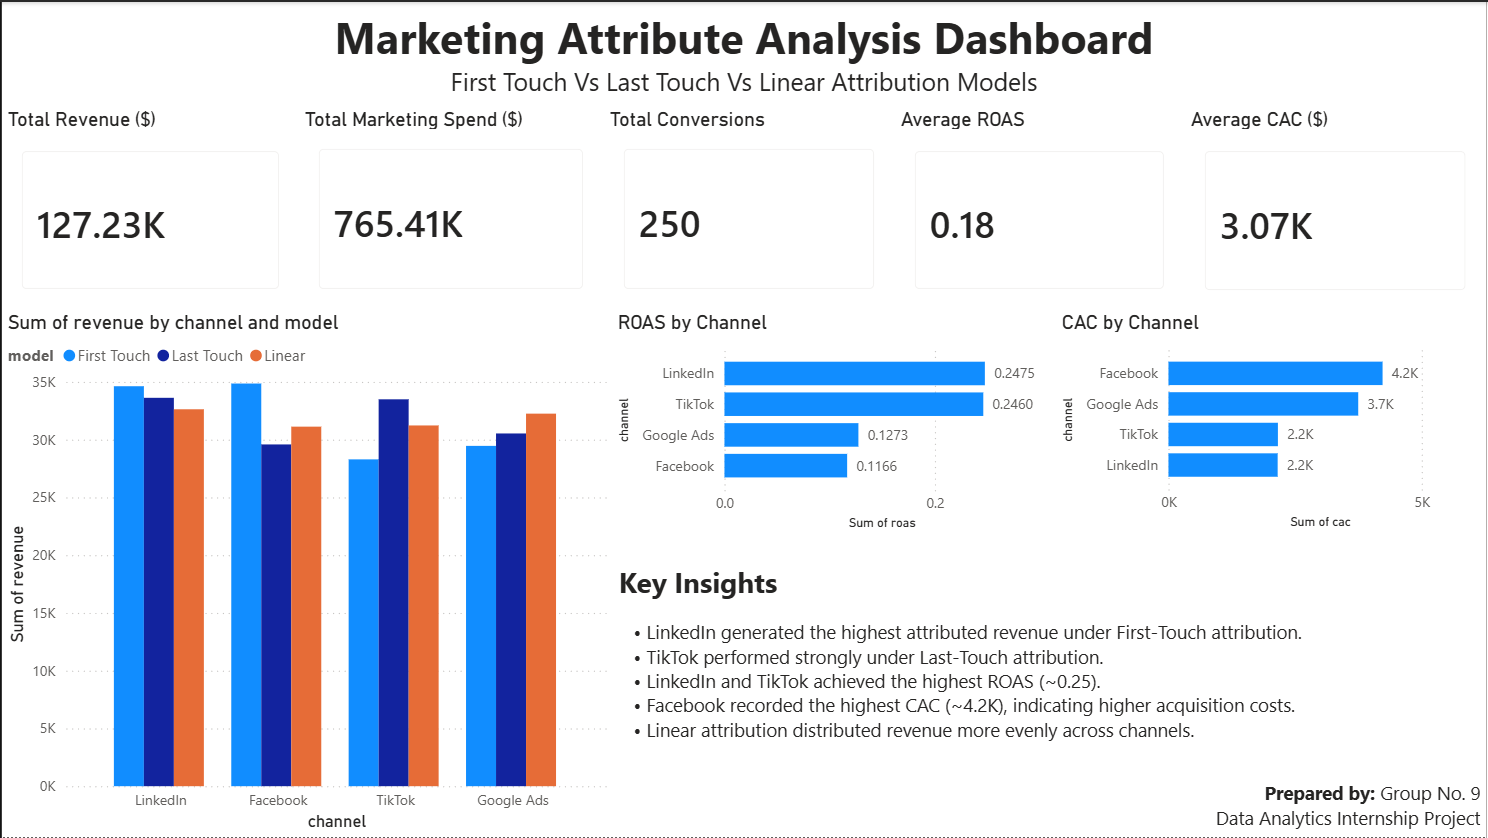

The dashboard page shown, as its layout file describes it:
{"tool":"powerbi","page":{"name":"Page 1","canvas":[1280,720],"ordinal":0},"visuals":[{"type":"textbox","box":[0,0,1280.1,90.6],"z":0},{"type":"cardVisual","title":"Total Revenue ($)","fields":{"Data":["Sum(public conversions.revenue)"]},"box":[0,91,256.4,174.6],"z":1000},{"type":"cardVisual","title":"Total Marketing Spend ($)","fields":{"Data":["Sum(public channel_spend.total_spend)"]},"box":[256.4,91,262.8,174.6],"z":2000},{"type":"cardVisual","title":"Total Conversions","fields":{"Data":["Count(public conversions.user_id)"]},"box":[519.2,91,250.9,174.6],"z":3000},{"type":"clusteredColumnChart","fields":{"Category":["Attribution_Comparison.channel"],"Series":["Attribution_Comparison.model"],"Y":["Sum(Attribution_Comparison.revenue)"]},"box":[0,265.9,526.7,454.1],"z":4000},{"type":"cardVisual","title":"Average ROAS","fields":{"Data":["Avg(public roas_analysis.roas)"]},"box":[770,91,249.9,174.6],"z":5000},{"type":"cardVisual","title":"Average CAC ($)","fields":{"Data":["Avg(public cac_analysis.cac)"]},"box":[1020.1,90.6,260,175.3],"z":6000},{"type":"clusteredBarChart","title":"ROAS by Channel","fields":{"Category":["public roas_analysis.channel"],"Y":["Sum(public roas_analysis.roas)"]},"box":[526.5,265.6,382.3,193.9],"z":7000},{"type":"clusteredBarChart","title":"CAC by Channel","fields":{"Category":["public cac_analysis.channel"],"Y":["Sum(public cac_analysis.cac)"]},"box":[909,265.9,371.1,193.3],"z":8000},{"type":"textbox","box":[526.7,478.9,753.3,241.1],"z":9000}]}

Visuals, with their boxes in screenshot pixels (x1, y1, x2, y2), scaled from the page's 1280x720 canvas onto the 1488x838 screenshot:
textbox: pyautogui.locateOnScreen(0, 0, 1487, 105)
"Total Revenue ($)" cardVisual: pyautogui.locateOnScreen(0, 106, 298, 309)
"Total Marketing Spend ($)" cardVisual: pyautogui.locateOnScreen(298, 106, 604, 309)
"Total Conversions" cardVisual: pyautogui.locateOnScreen(604, 106, 895, 309)
clusteredColumnChart - Attribution_Comparison.channel x Attribution_Comparison.model: pyautogui.locateOnScreen(0, 309, 612, 837)
"Average ROAS" cardVisual: pyautogui.locateOnScreen(895, 106, 1186, 309)
"Average CAC ($)" cardVisual: pyautogui.locateOnScreen(1186, 105, 1487, 309)
"ROAS by Channel" clusteredBarChart: pyautogui.locateOnScreen(612, 309, 1056, 535)
"CAC by Channel" clusteredBarChart: pyautogui.locateOnScreen(1057, 309, 1487, 534)
textbox: pyautogui.locateOnScreen(612, 557, 1487, 837)
